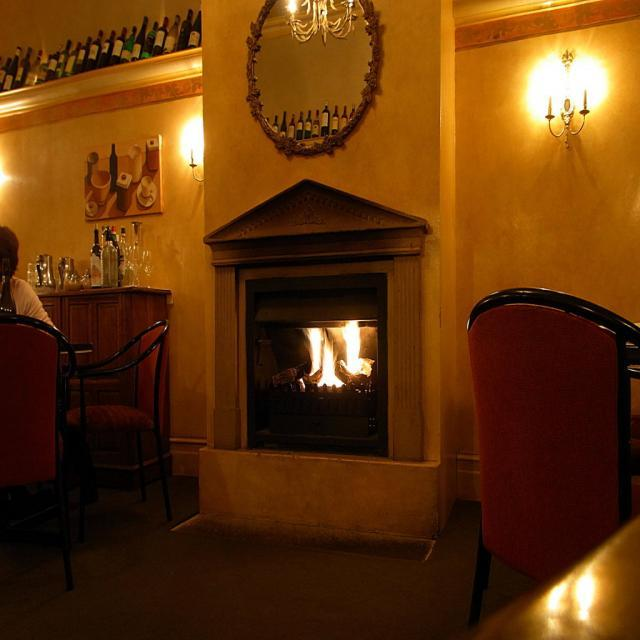Fire: (298, 322, 370, 394)
